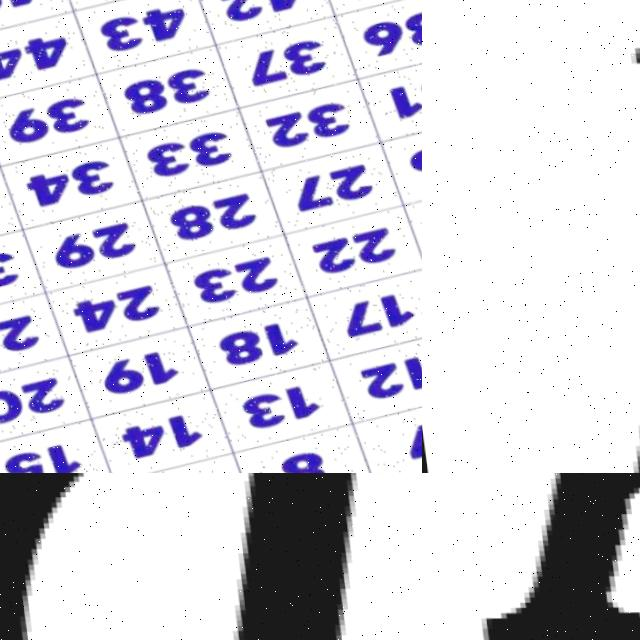0: (0, 383, 19, 435)
1: (549, 31, 640, 473), (246, 311, 302, 362), (268, 376, 319, 425), (368, 283, 418, 332), (130, 343, 177, 391), (155, 405, 201, 451), (379, 74, 422, 122), (30, 436, 78, 473), (392, 344, 422, 392)
2: (297, 228, 357, 281), (81, 213, 139, 266), (203, 185, 259, 238), (319, 156, 377, 207), (338, 219, 398, 268), (6, 373, 64, 423), (103, 278, 161, 327), (341, 355, 395, 404), (258, 102, 312, 151), (222, 249, 276, 296), (0, 307, 38, 358), (212, 0, 270, 29)
3: (156, 56, 221, 111), (273, 30, 335, 83), (87, 7, 149, 60), (132, 133, 192, 186), (295, 92, 355, 144), (175, 259, 233, 310), (61, 153, 120, 202), (221, 384, 277, 435), (39, 91, 93, 140), (179, 123, 232, 172), (397, 0, 422, 52), (0, 244, 20, 295)
4: (53, 285, 122, 341), (8, 164, 74, 219), (102, 412, 162, 467), (17, 27, 75, 79), (136, 0, 189, 47), (0, 37, 28, 94), (250, 0, 316, 19), (0, 0, 56, 15)
5: (0, 444, 43, 473)
6: (352, 11, 410, 60), (394, 135, 422, 184)
7: (321, 288, 382, 345), (230, 38, 292, 91), (277, 166, 335, 217), (386, 413, 422, 463)
8: (154, 196, 216, 247), (201, 322, 262, 373), (111, 71, 175, 119), (257, 441, 328, 473)
9: (36, 227, 99, 274), (0, 99, 53, 150), (85, 352, 140, 401)
D: (0, 473, 422, 640)
G: (422, 473, 640, 640)
